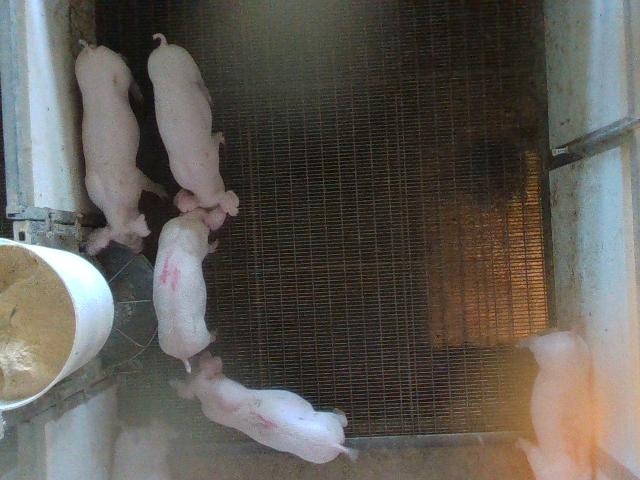pig-1: (171, 351, 358, 463)
pig-3: (518, 331, 594, 479)
pig-4: (152, 189, 226, 372)
